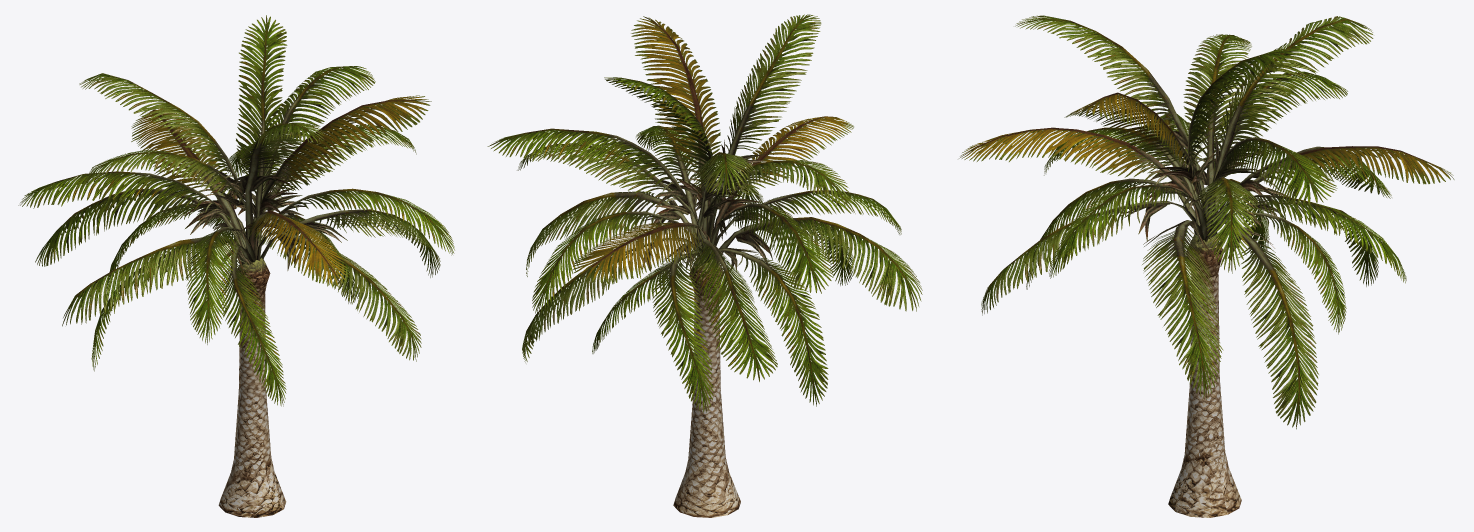
Rendered from Tree_DatePlam_A_Lod1.fbx.
3 views of the same model, side by side, from view 1: azimuth 30°, elevation 25°; view 2: azimuth 150°, elevation 25°; view 3: azimuth 270°, elevation 25° (orthographic). The views are drawn at different scales.
Parts seen in each view (by area): view 1: Tree_DatePlam_A_Lod1; view 2: Tree_DatePlam_A_Lod1; view 3: Tree_DatePlam_A_Lod1.
Boxes of the visible parts, box(x1,y1,x2,y2) form: Tree_DatePlam_A_Lod1: box(18, 15, 454, 517); Tree_DatePlam_A_Lod1: box(487, 14, 922, 517); Tree_DatePlam_A_Lod1: box(959, 15, 1454, 517).
Bounding box in the file's own units: 909 × 1006 × 956.
Materials: 2 (2 with a texture image).
